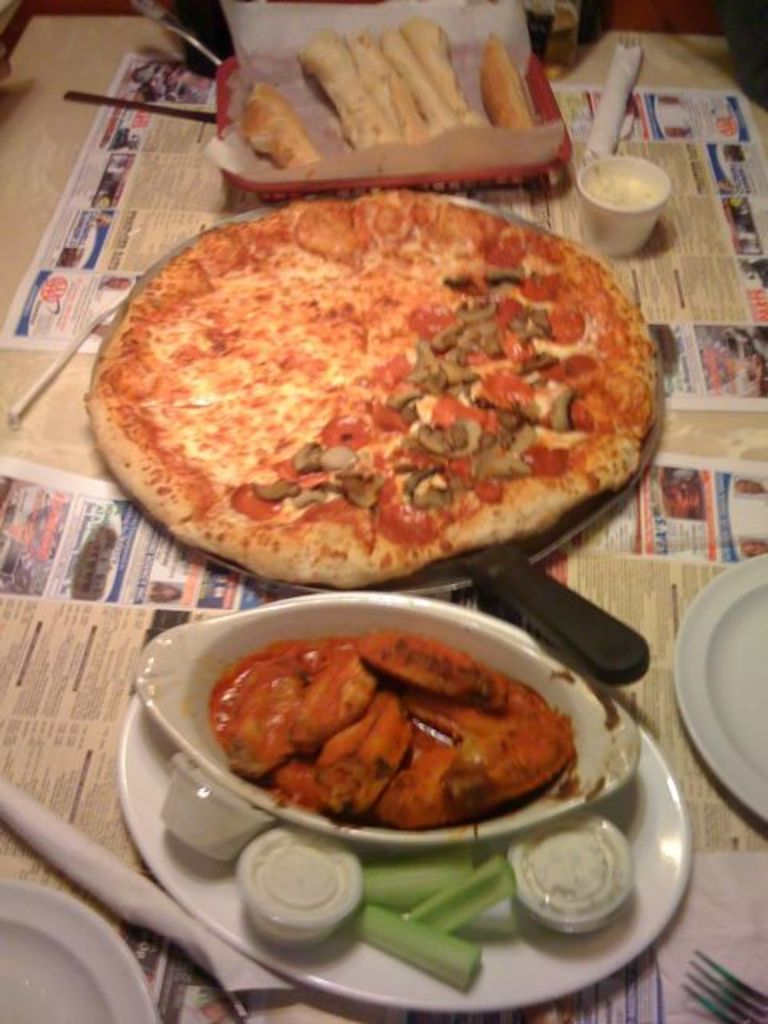Pizza: (91, 169, 670, 601)
